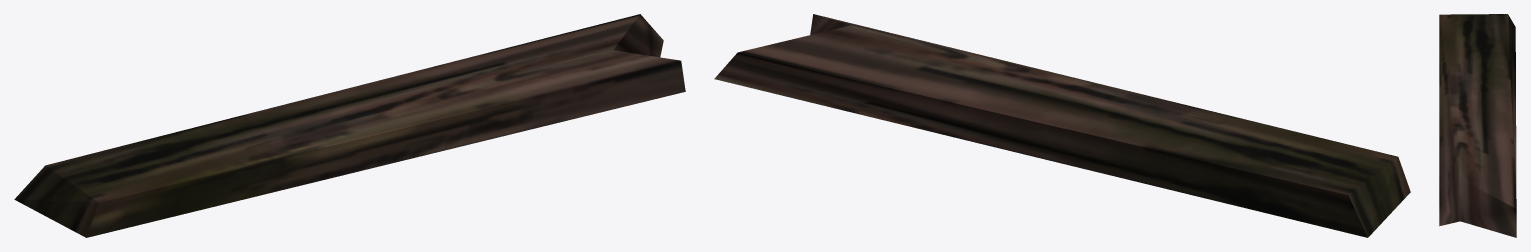
Rendered from PRP_WoodPieceA.FBX.
The picture shows the model from 3 angles, left to right: view 1: azimuth 30°, elevation 25°; view 2: azimuth 150°, elevation 25°; view 3: azimuth 270°, elevation 25°; orthographic projection. The views are drawn at different scales.
Parts seen in each view (by area): view 1: PRP_WoodPieceA; view 2: PRP_WoodPieceA; view 3: PRP_WoodPieceA.
Part boxes in pixels (x1,y1,x2,y2): PRP_WoodPieceA: (14, 14, 685, 237); PRP_WoodPieceA: (714, 14, 1410, 237); PRP_WoodPieceA: (1439, 14, 1516, 237).
Bounding box in the file's own units: 371 × 24.43 × 57.29.
